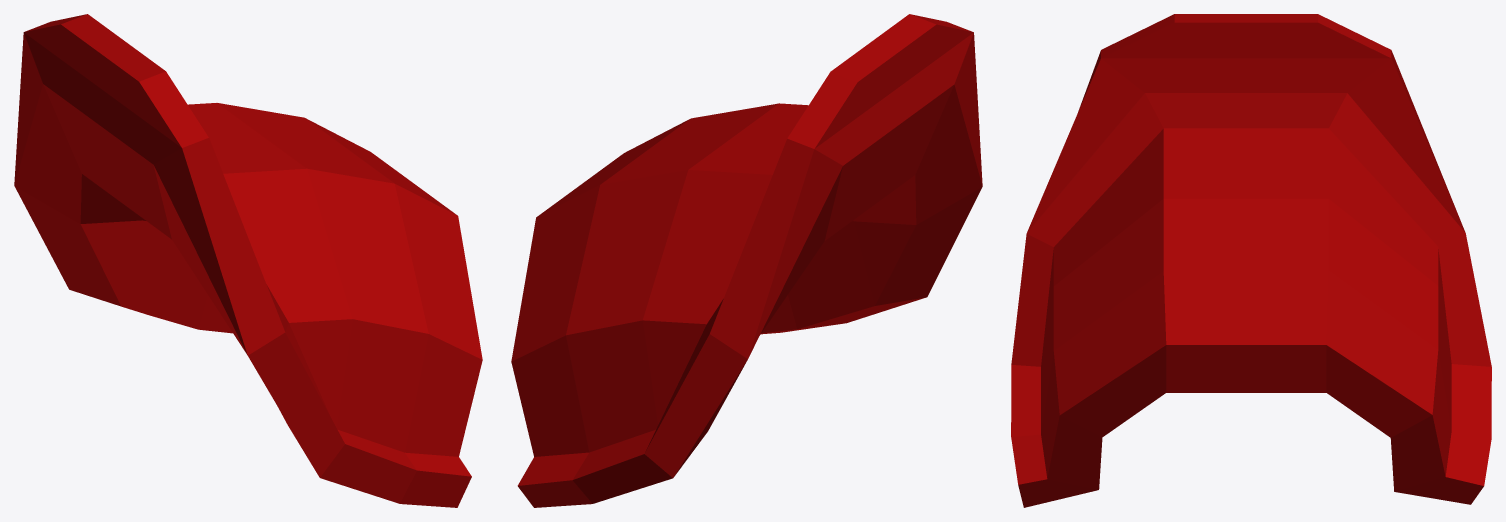
The model's file is Chr_ShoulderAttachLeft_Static_12.fbx.
3 views of the same model, side by side, from view 1: azimuth 30°, elevation 25°; view 2: azimuth 150°, elevation 25°; view 3: azimuth 270°, elevation 25° (orthographic). The views are drawn at different scales.
Parts seen in each view (by area): view 1: Chr_ShoulderAttachLeft_12; view 2: Chr_ShoulderAttachLeft_12; view 3: Chr_ShoulderAttachLeft_12.
Part boxes in pixels (box(x1,y1,x2,y2)): Chr_ShoulderAttachLeft_12: box(14, 14, 482, 507); Chr_ShoulderAttachLeft_12: box(511, 14, 982, 507); Chr_ShoulderAttachLeft_12: box(1011, 14, 1491, 507).
Size of the model in its own units: 20.25 by 26.16 by 29.09.
